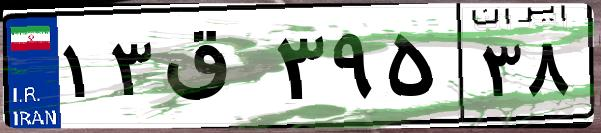1: (57, 26, 110, 100)
3: (270, 28, 330, 110), (475, 38, 525, 113), (110, 28, 158, 98)
5: (385, 28, 445, 110)
8: (525, 38, 570, 115)
9: (330, 28, 385, 110)
ق: (158, 20, 270, 120)
